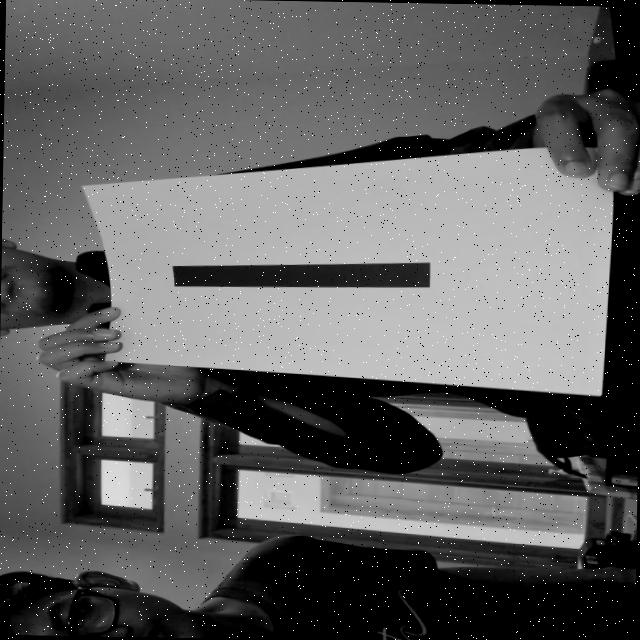i: (149, 226, 456, 306)
